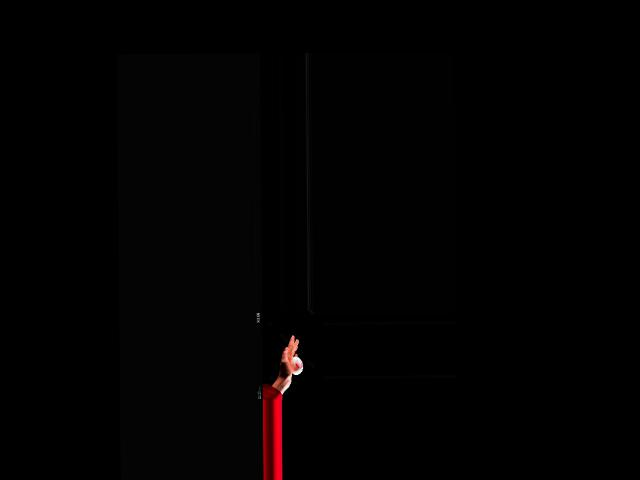egg: (290, 357, 303, 375)
